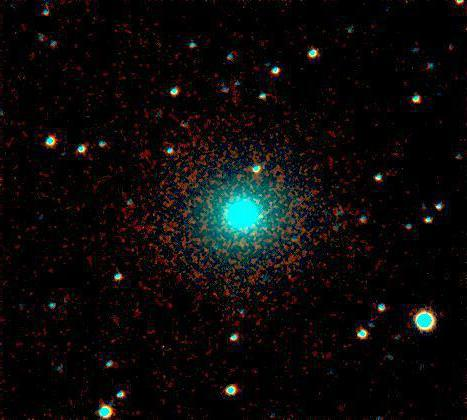star: (249, 203, 279, 233)
